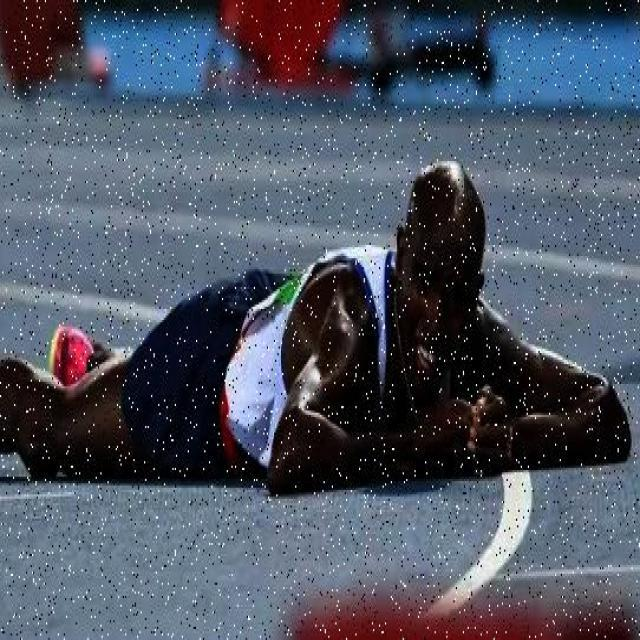fall: (9, 168, 632, 481)
